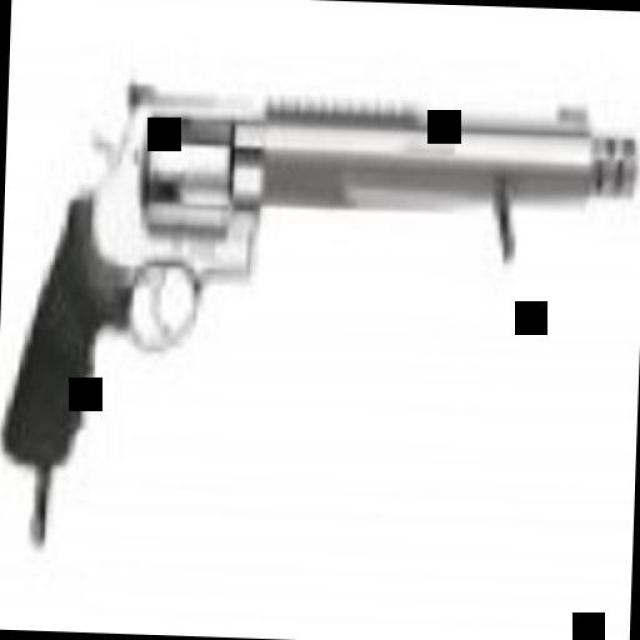gun: (1, 58, 635, 478)
